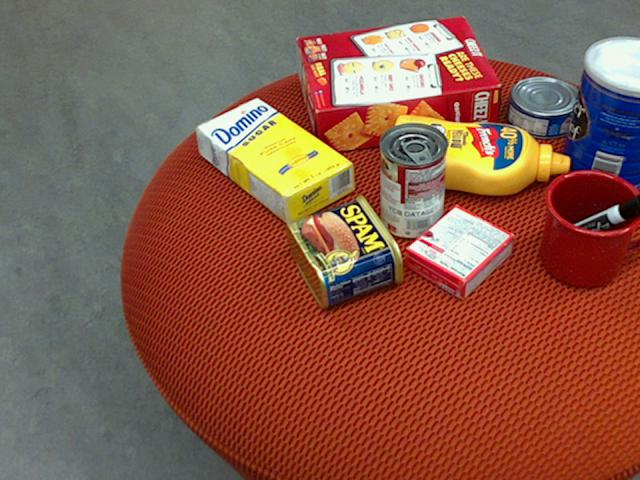cracker_box: (296, 16, 499, 153)
gelatin_box: (403, 206, 514, 301)
large_marker: (543, 192, 639, 251)
master_chef_can: (557, 37, 639, 200)
mug: (539, 169, 639, 287)
mustard_bottle: (386, 114, 568, 195)
potted_meat_can: (284, 193, 403, 308)
sugar_box: (194, 96, 353, 226)
tomato_soup_can: (378, 120, 446, 238)
tuna_fish_can: (503, 75, 579, 137)
